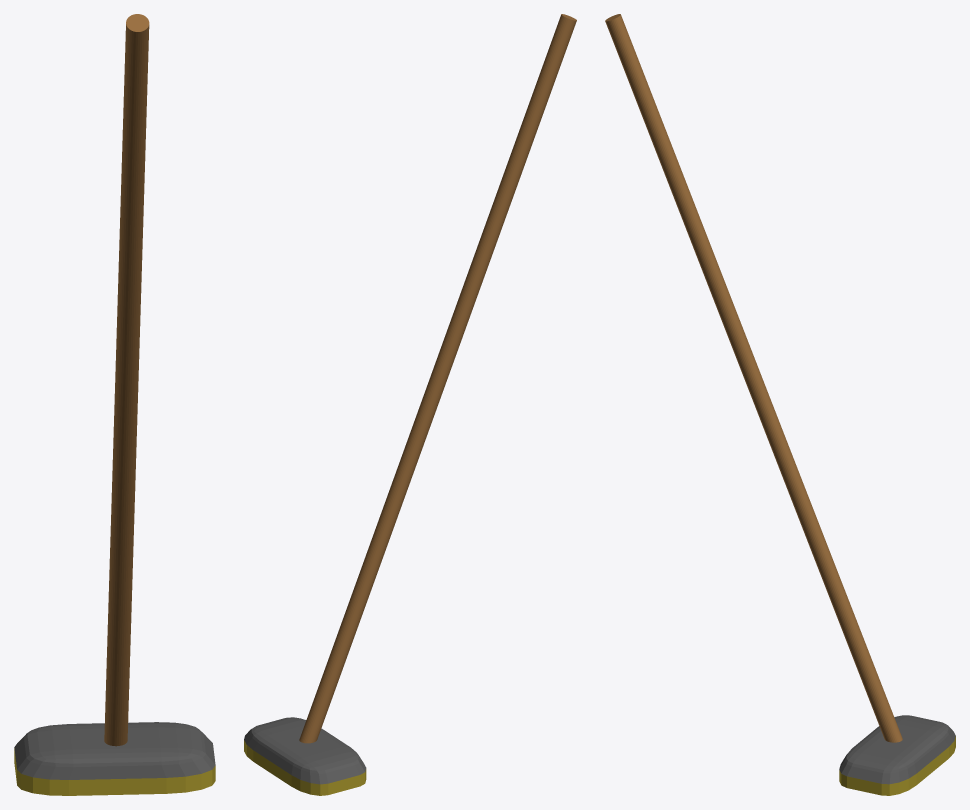
Rendered from Mop.fbx.
3 renders of one model, left to right at view 1: azimuth 30°, elevation 25°; view 2: azimuth 150°, elevation 25°; view 3: azimuth 270°, elevation 25°, orthographic. The views are drawn at different scales.
Parts seen in each view (by area): view 1: Cube; view 2: Cube; view 3: Cube.
Boxes of the visible parts, x1,y1,x2,y2 form: Cube: (14,14,215,795); Cube: (244,14,576,795); Cube: (605,14,955,795).
Bounding box in the file's own units: 0.3713 × 1.24 × 0.5704.
